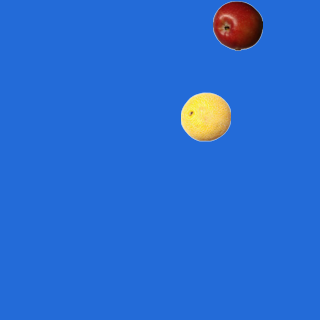Apple Braeburn: (212, 0, 262, 50)
Cantaloupe 1: (180, 91, 230, 141)
